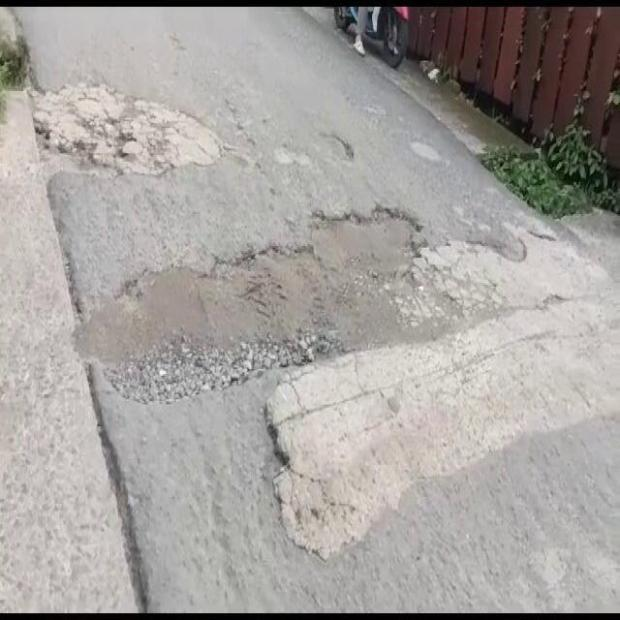lubang: (84, 219, 595, 401), (30, 85, 224, 174), (221, 388, 299, 537), (320, 133, 354, 161)
